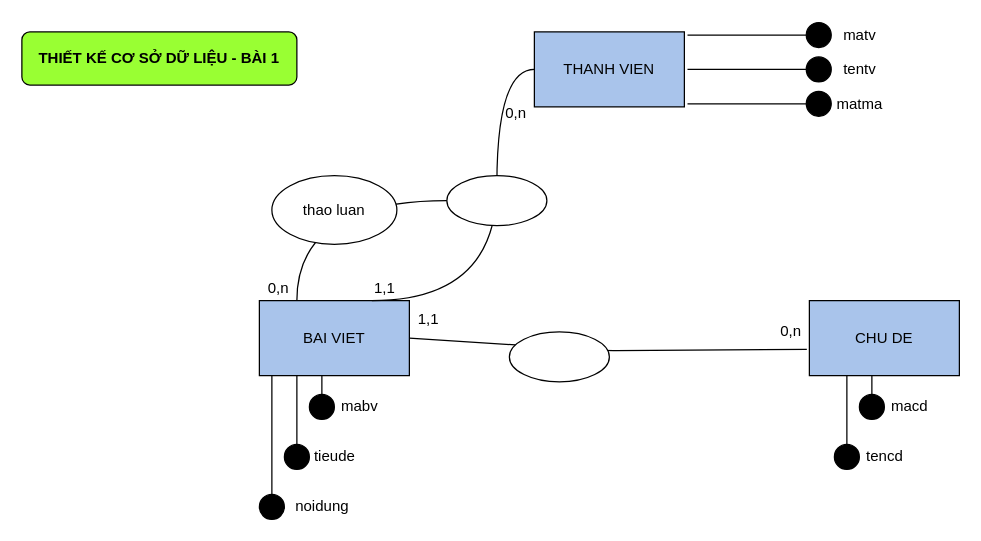
This 981x541 diagram has some shape labels left out. Here are the shapes that lost their labels. From the top down, the centre of each, then its label:
At [496,200]: "goi".
At [558,356]: "thuoc".
